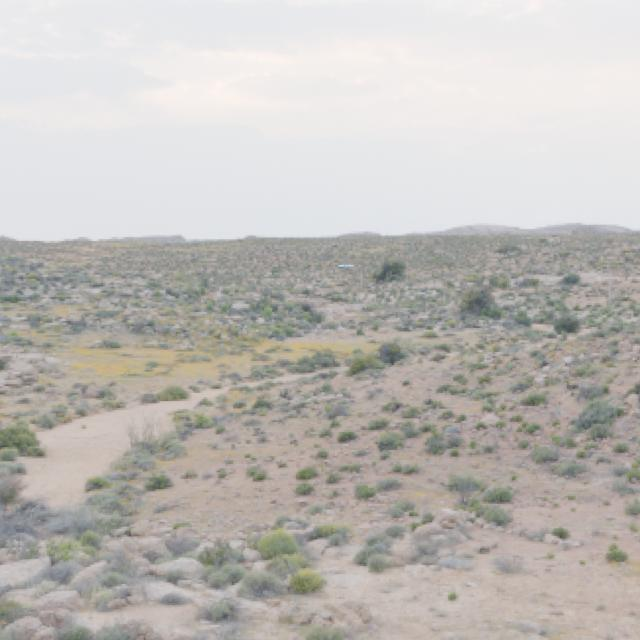Airaplan: (338, 265, 353, 268)
